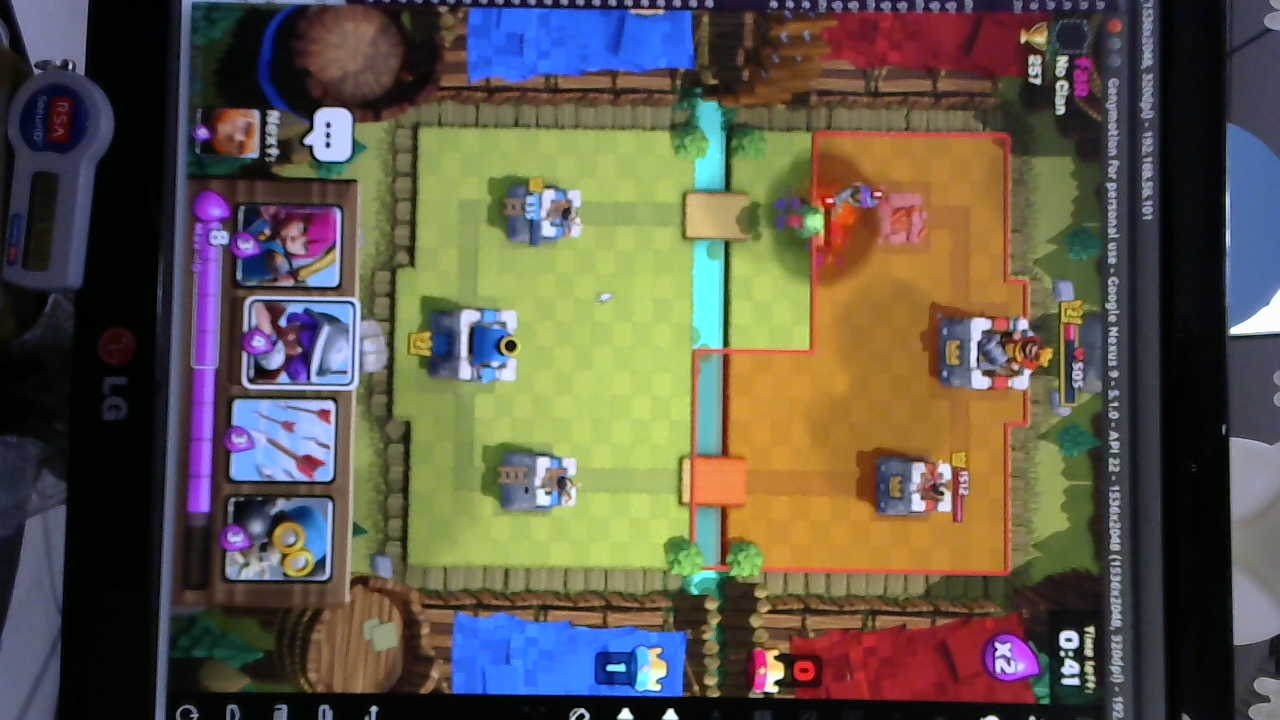arena: (497, 447, 584, 517), (502, 182, 587, 243)
dragon: (780, 197, 830, 247)
earena: (873, 454, 960, 523)
eking: (951, 316, 1042, 393)
king: (430, 302, 526, 390)
musketeer: (828, 179, 887, 216)
